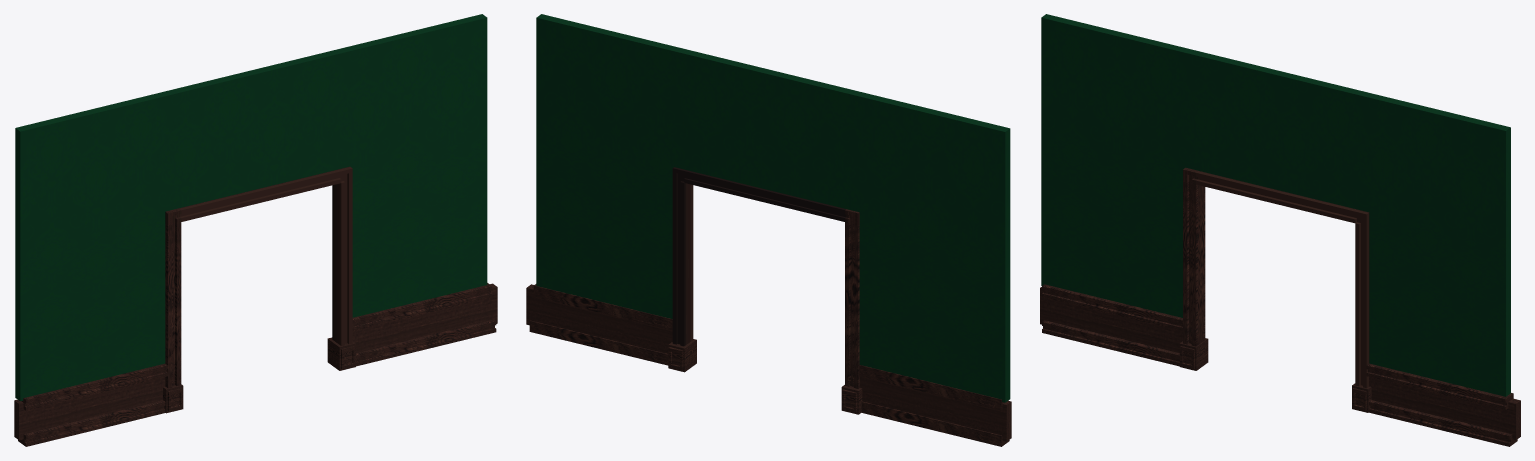
Rendered from Environment_WallpaperEnteranceWall_Green.glb.
3 views of the same model, side by side, from view 1: azimuth 30°, elevation 25°; view 2: azimuth 150°, elevation 25°; view 3: azimuth 330°, elevation 25° (orthographic).
Parts seen in each view (by area): view 1: Wall R, Cube.005, Wall R.003, Wall R.004, Cube.016, Cube.007, Cube.015, Cube.008, Cube.006, Cube.004; view 2: Wall R, Cube.005, Wall R.003, Wall R.004, Cube.007, Cube.016, Cube.008, Cube.015, Cube.006, Cube.004; view 3: Wall R, Cube.005, Wall R.004, Wall R.003, Cube.015, Cube.008, Cube.016, Cube.007, Cube.004, Cube.006.
Part boxes in pixels (x1=…): Wall R: x1=15, y1=14, x2=487, y2=401; Cube.005: x1=165, y1=166, x2=352, y2=388; Wall R.003: x1=14, y1=377, x2=165, y2=440; Wall R.004: x1=352, y1=283, x2=497, y2=352; Cube.016: x1=21, y1=363, x2=167, y2=410; Cube.007: x1=18, y1=400, x2=165, y2=446; Cube.015: x1=352, y1=283, x2=492, y2=330; Cube.008: x1=356, y1=319, x2=496, y2=366; Cube.006: x1=327, y1=337, x2=355, y2=370; Cube.004: x1=163, y1=384, x2=183, y2=413; Wall R: x1=536, y1=14, x2=1010, y2=402; Cube.005: x1=672, y1=167, x2=859, y2=388; Wall R.003: x1=860, y1=376, x2=1011, y2=441; Wall R.004: x1=526, y1=284, x2=672, y2=353; Cube.007: x1=861, y1=401, x2=1009, y2=446; Cube.016: x1=859, y1=365, x2=1003, y2=410; Cube.008: x1=529, y1=320, x2=668, y2=365; Cube.015: x1=533, y1=284, x2=672, y2=330; Cube.006: x1=668, y1=339, x2=696, y2=372; Cube.004: x1=841, y1=385, x2=862, y2=414; Wall R: x1=1041, y1=14, x2=1510, y2=396; Cube.005: x1=1183, y1=167, x2=1369, y2=388; Wall R.004: x1=1369, y1=377, x2=1520, y2=440; Wall R.003: x1=1040, y1=287, x2=1182, y2=352; Cube.015: x1=1366, y1=363, x2=1513, y2=409; Cube.008: x1=1369, y1=400, x2=1517, y2=446; Cube.016: x1=1042, y1=284, x2=1182, y2=331; Cube.007: x1=1042, y1=320, x2=1179, y2=366; Cube.004: x1=1179, y1=338, x2=1208, y2=370; Cube.006: x1=1352, y1=383, x2=1371, y2=412.
Size of the model in its own units: 31.33 by 19.65 by 1.61.
Materials: 3 (3 with a texture image).
